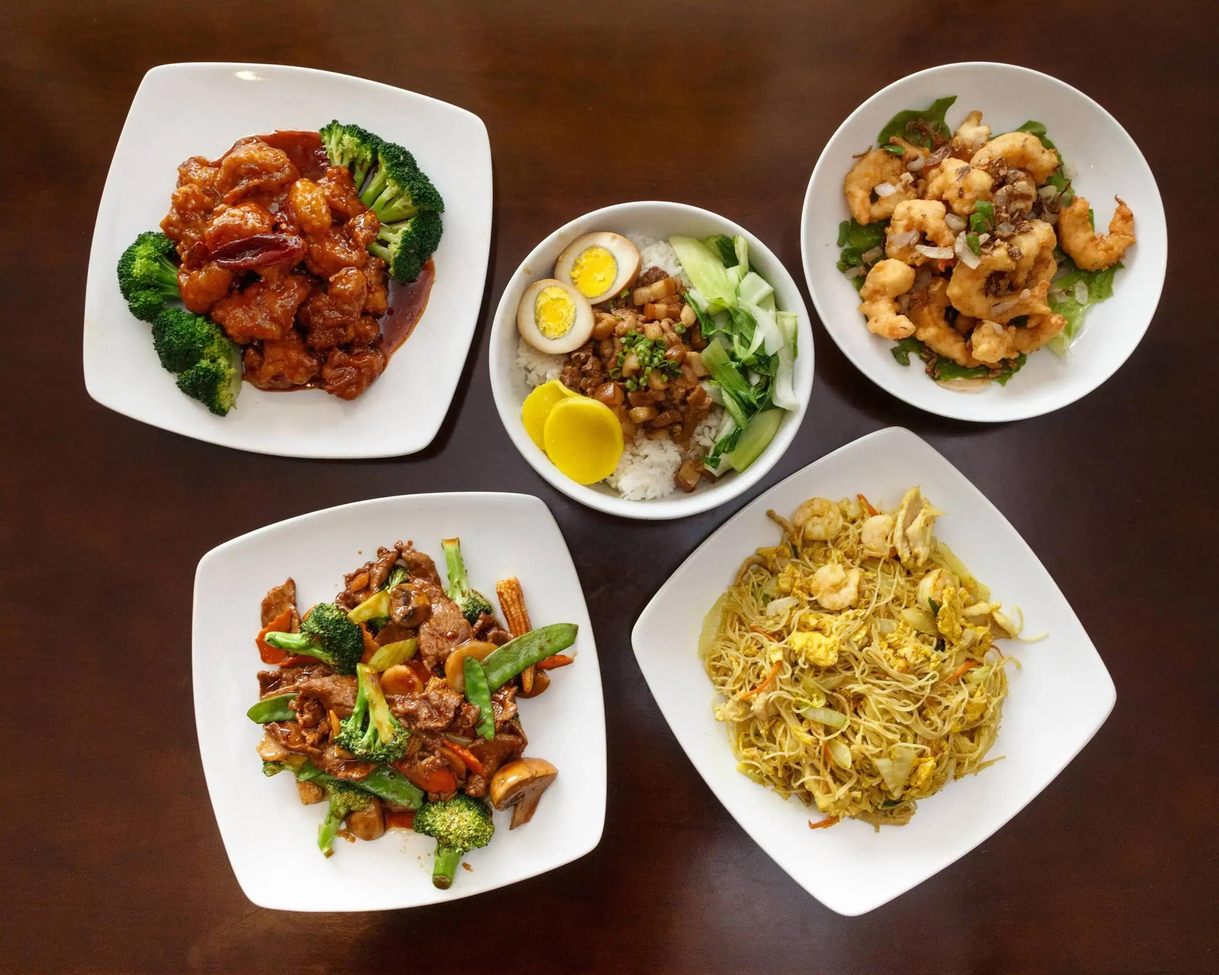Braised Crucian Carp: (642, 428, 1119, 912), (190, 486, 609, 917), (79, 58, 496, 461), (800, 59, 1168, 427), (485, 198, 819, 524)
